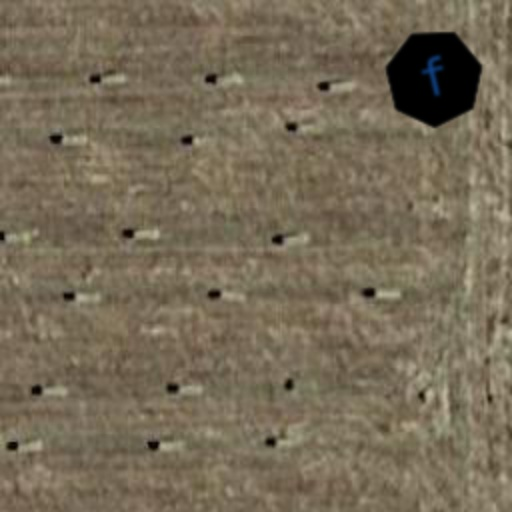heptagon: (372, 16, 496, 140)
